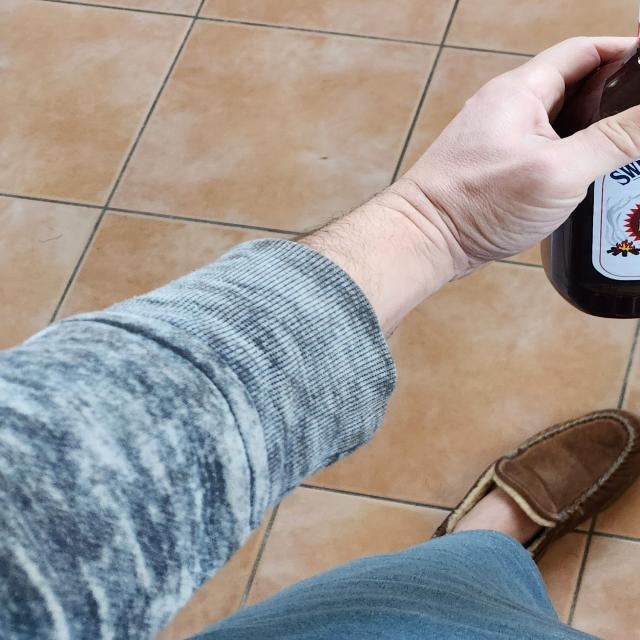barbecue sauce: (535, 0, 640, 321)
